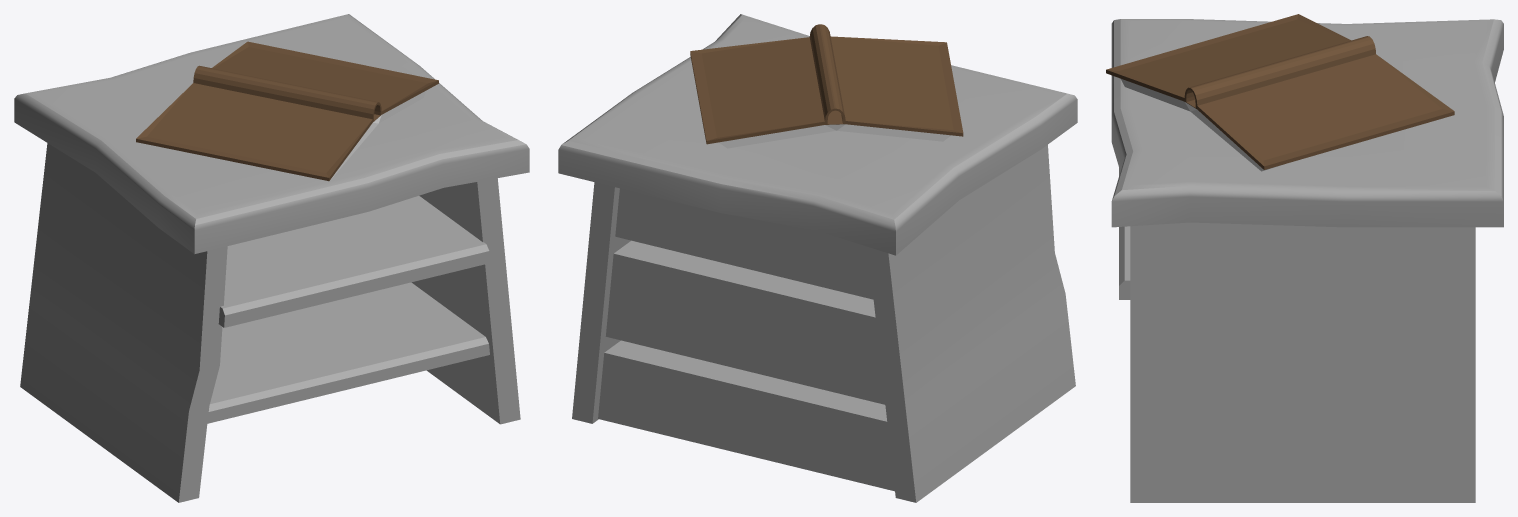
File: Side Table 1.fbx
3 views of the same model, side by side, from view 1: azimuth 30°, elevation 25°; view 2: azimuth 150°, elevation 25°; view 3: azimuth 270°, elevation 25° (orthographic). The views are drawn at different scales.
Visible parts, largest first — view 1: SideTable_1; view 2: SideTable_1; view 3: SideTable_1.
Boxes of the visible parts, x1,y1,x2,y2 form: SideTable_1: [14, 14, 529, 502]; SideTable_1: [558, 14, 1077, 502]; SideTable_1: [1106, 14, 1503, 502].
Bounding box in the file's own units: 0.0263 × 0.0238 × 0.0243.
